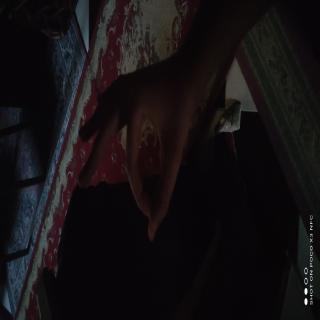Space: (37, 172, 126, 320)
